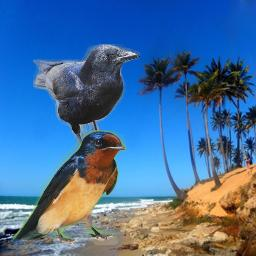Crow: (33, 44, 140, 160)
Swallow: (11, 130, 126, 245)
